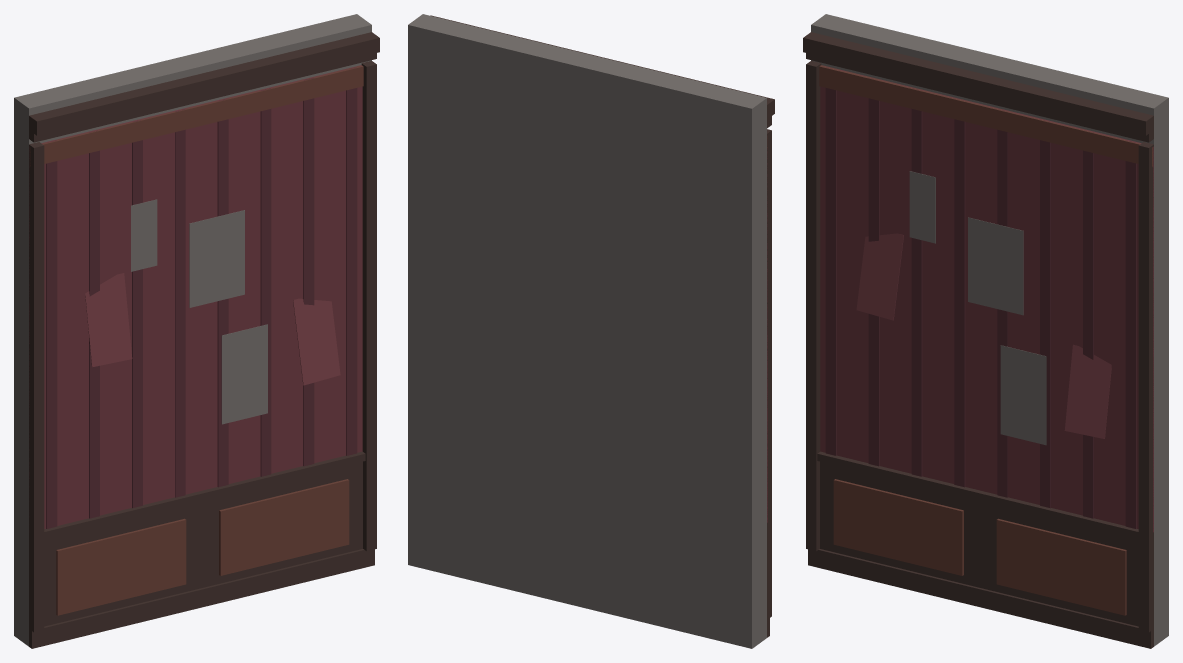
File: wall_panel.glb
The picture shows the model from 3 angles, left to right: view 1: azimuth 30°, elevation 25°; view 2: azimuth 150°, elevation 25°; view 3: azimuth 330°, elevation 25°; orthographic projection.
Visible parts, largest first — view 1: WallPanel; view 2: WallPanel; view 3: WallPanel.
Part boxes in pixels (x1,y1,x2,y2): WallPanel: (14,14,379,648); WallPanel: (408,14,774,648); WallPanel: (803,14,1168,648).
Size of the model in its own units: 4 by 6 by 0.5122.
